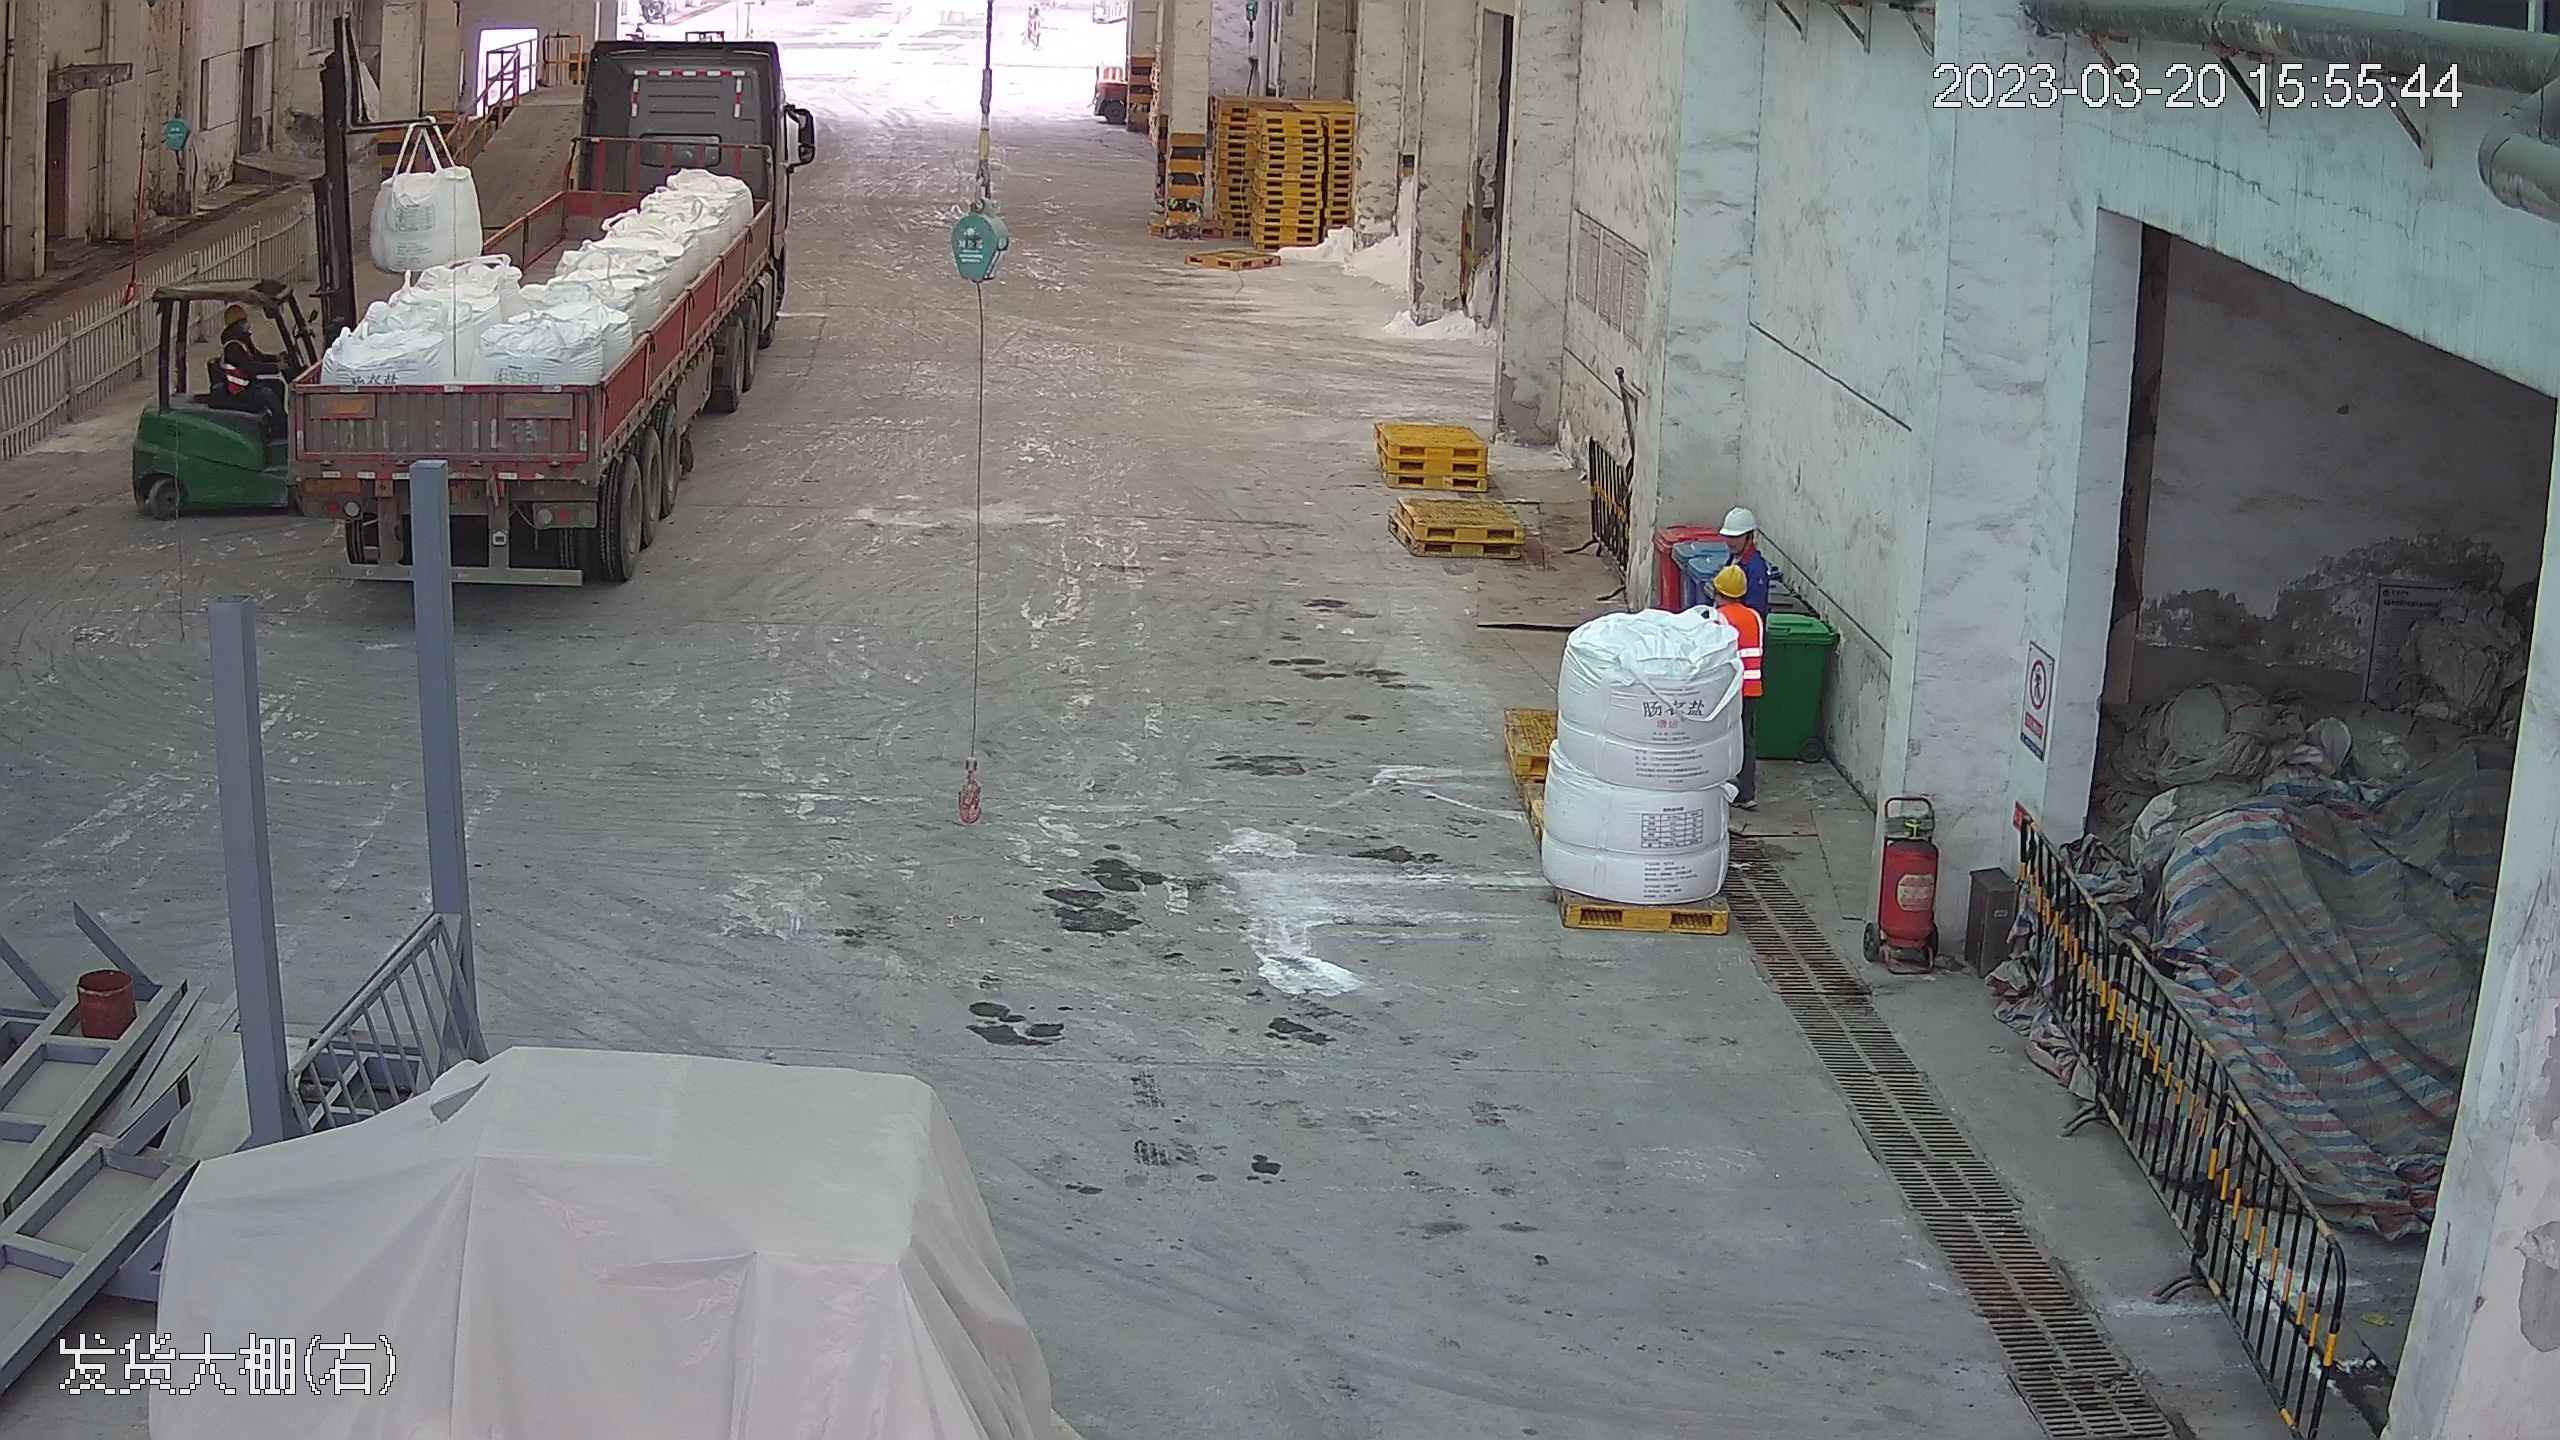head: (1705, 558, 1766, 647), (218, 302, 265, 359)
helmet: (1708, 563, 1747, 595), (1723, 506, 1758, 537), (223, 301, 252, 324)
people: (1715, 551, 1773, 819), (214, 301, 301, 429)
truck: (301, 16, 802, 586)
